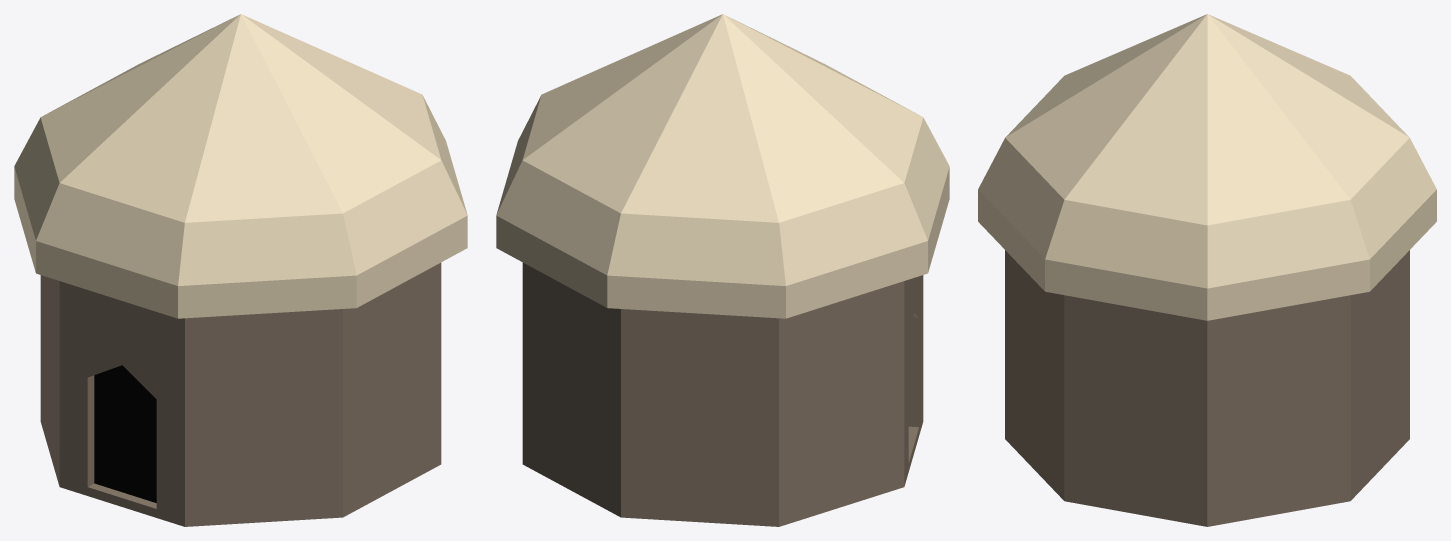
The model's file is goblin_hut.fbx.
3 renders of one model, left to right at view 1: azimuth 30°, elevation 25°; view 2: azimuth 150°, elevation 25°; view 3: azimuth 270°, elevation 25°, orthographic.
Parts seen in each view (by area): view 1: Cylinder.002; view 2: Cylinder.002; view 3: Cylinder.002.
Part boxes in pixels (x1,y1,x2,y2): Cylinder.002: [14, 14, 467, 526]; Cylinder.002: [496, 14, 949, 526]; Cylinder.002: [978, 14, 1436, 526].
Bounding box in the file's own units: 651 × 651 × 636.
Materials: 1 (1 with a texture image).
